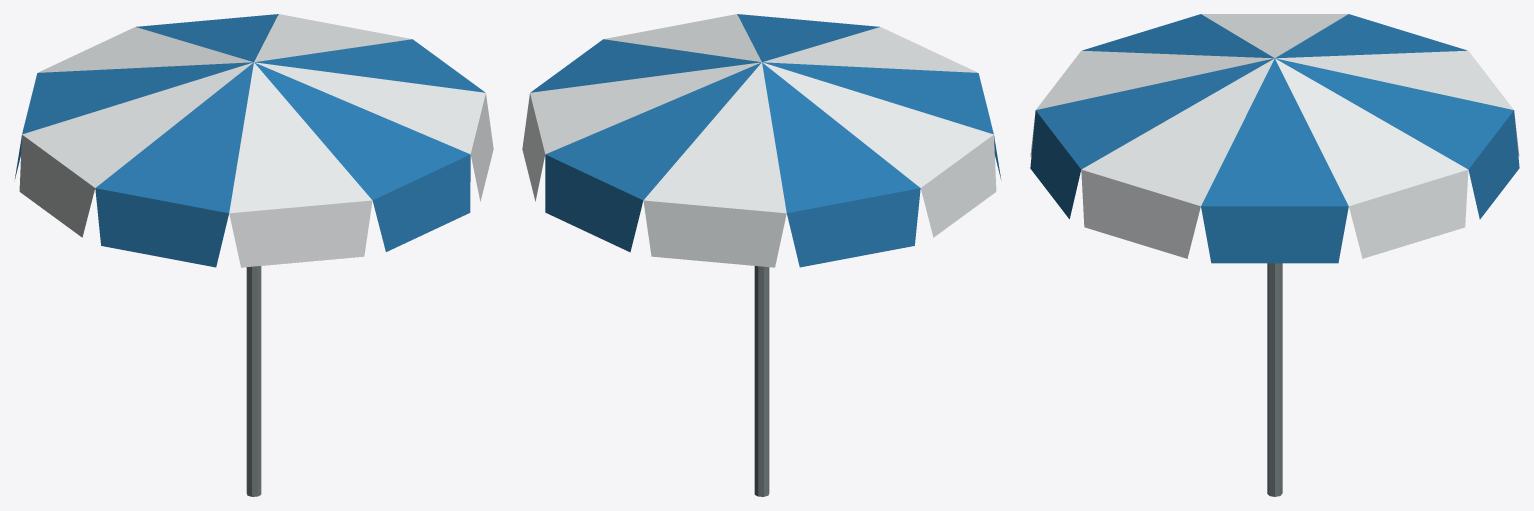
The model's file is umbrella.fbx.
3 views of the same model, side by side, from view 1: azimuth 30°, elevation 25°; view 2: azimuth 150°, elevation 25°; view 3: azimuth 270°, elevation 25° (orthographic).
Parts seen in each view (by area): view 1: Umbrella; view 2: Umbrella; view 3: Umbrella.
Boxes of the visible parts, <box> form: Umbrella: <box>14,14,493,496</box>; Umbrella: <box>522,14,1001,496</box>; Umbrella: <box>1030,14,1519,496</box>.
Size of the model in its own units: 339 by 344 by 351.
